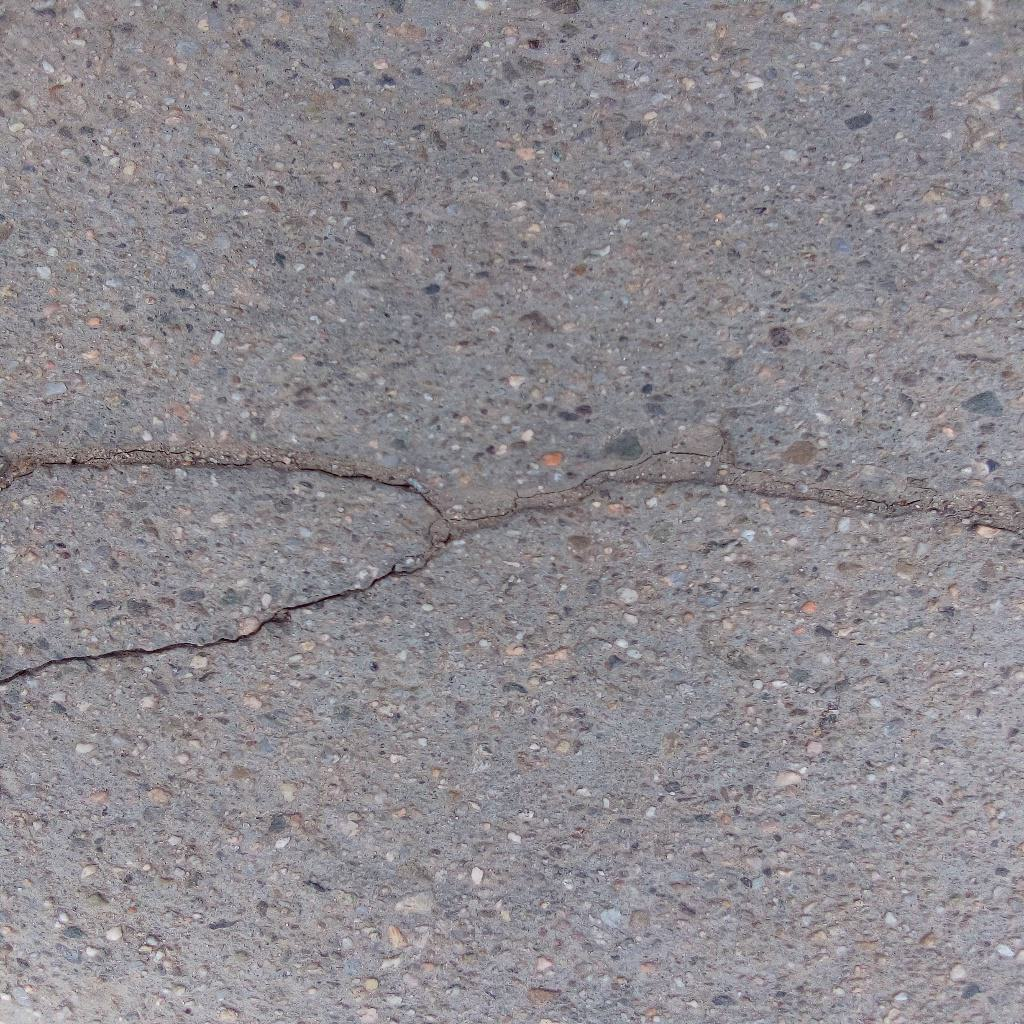Crack: (1, 449, 1024, 542), (1, 524, 456, 687)
